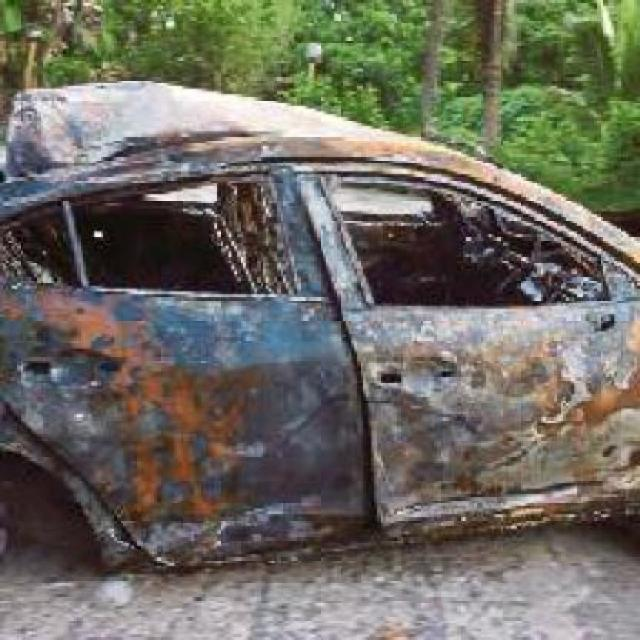damaged-door: (8, 148, 346, 570), (294, 137, 637, 532)
